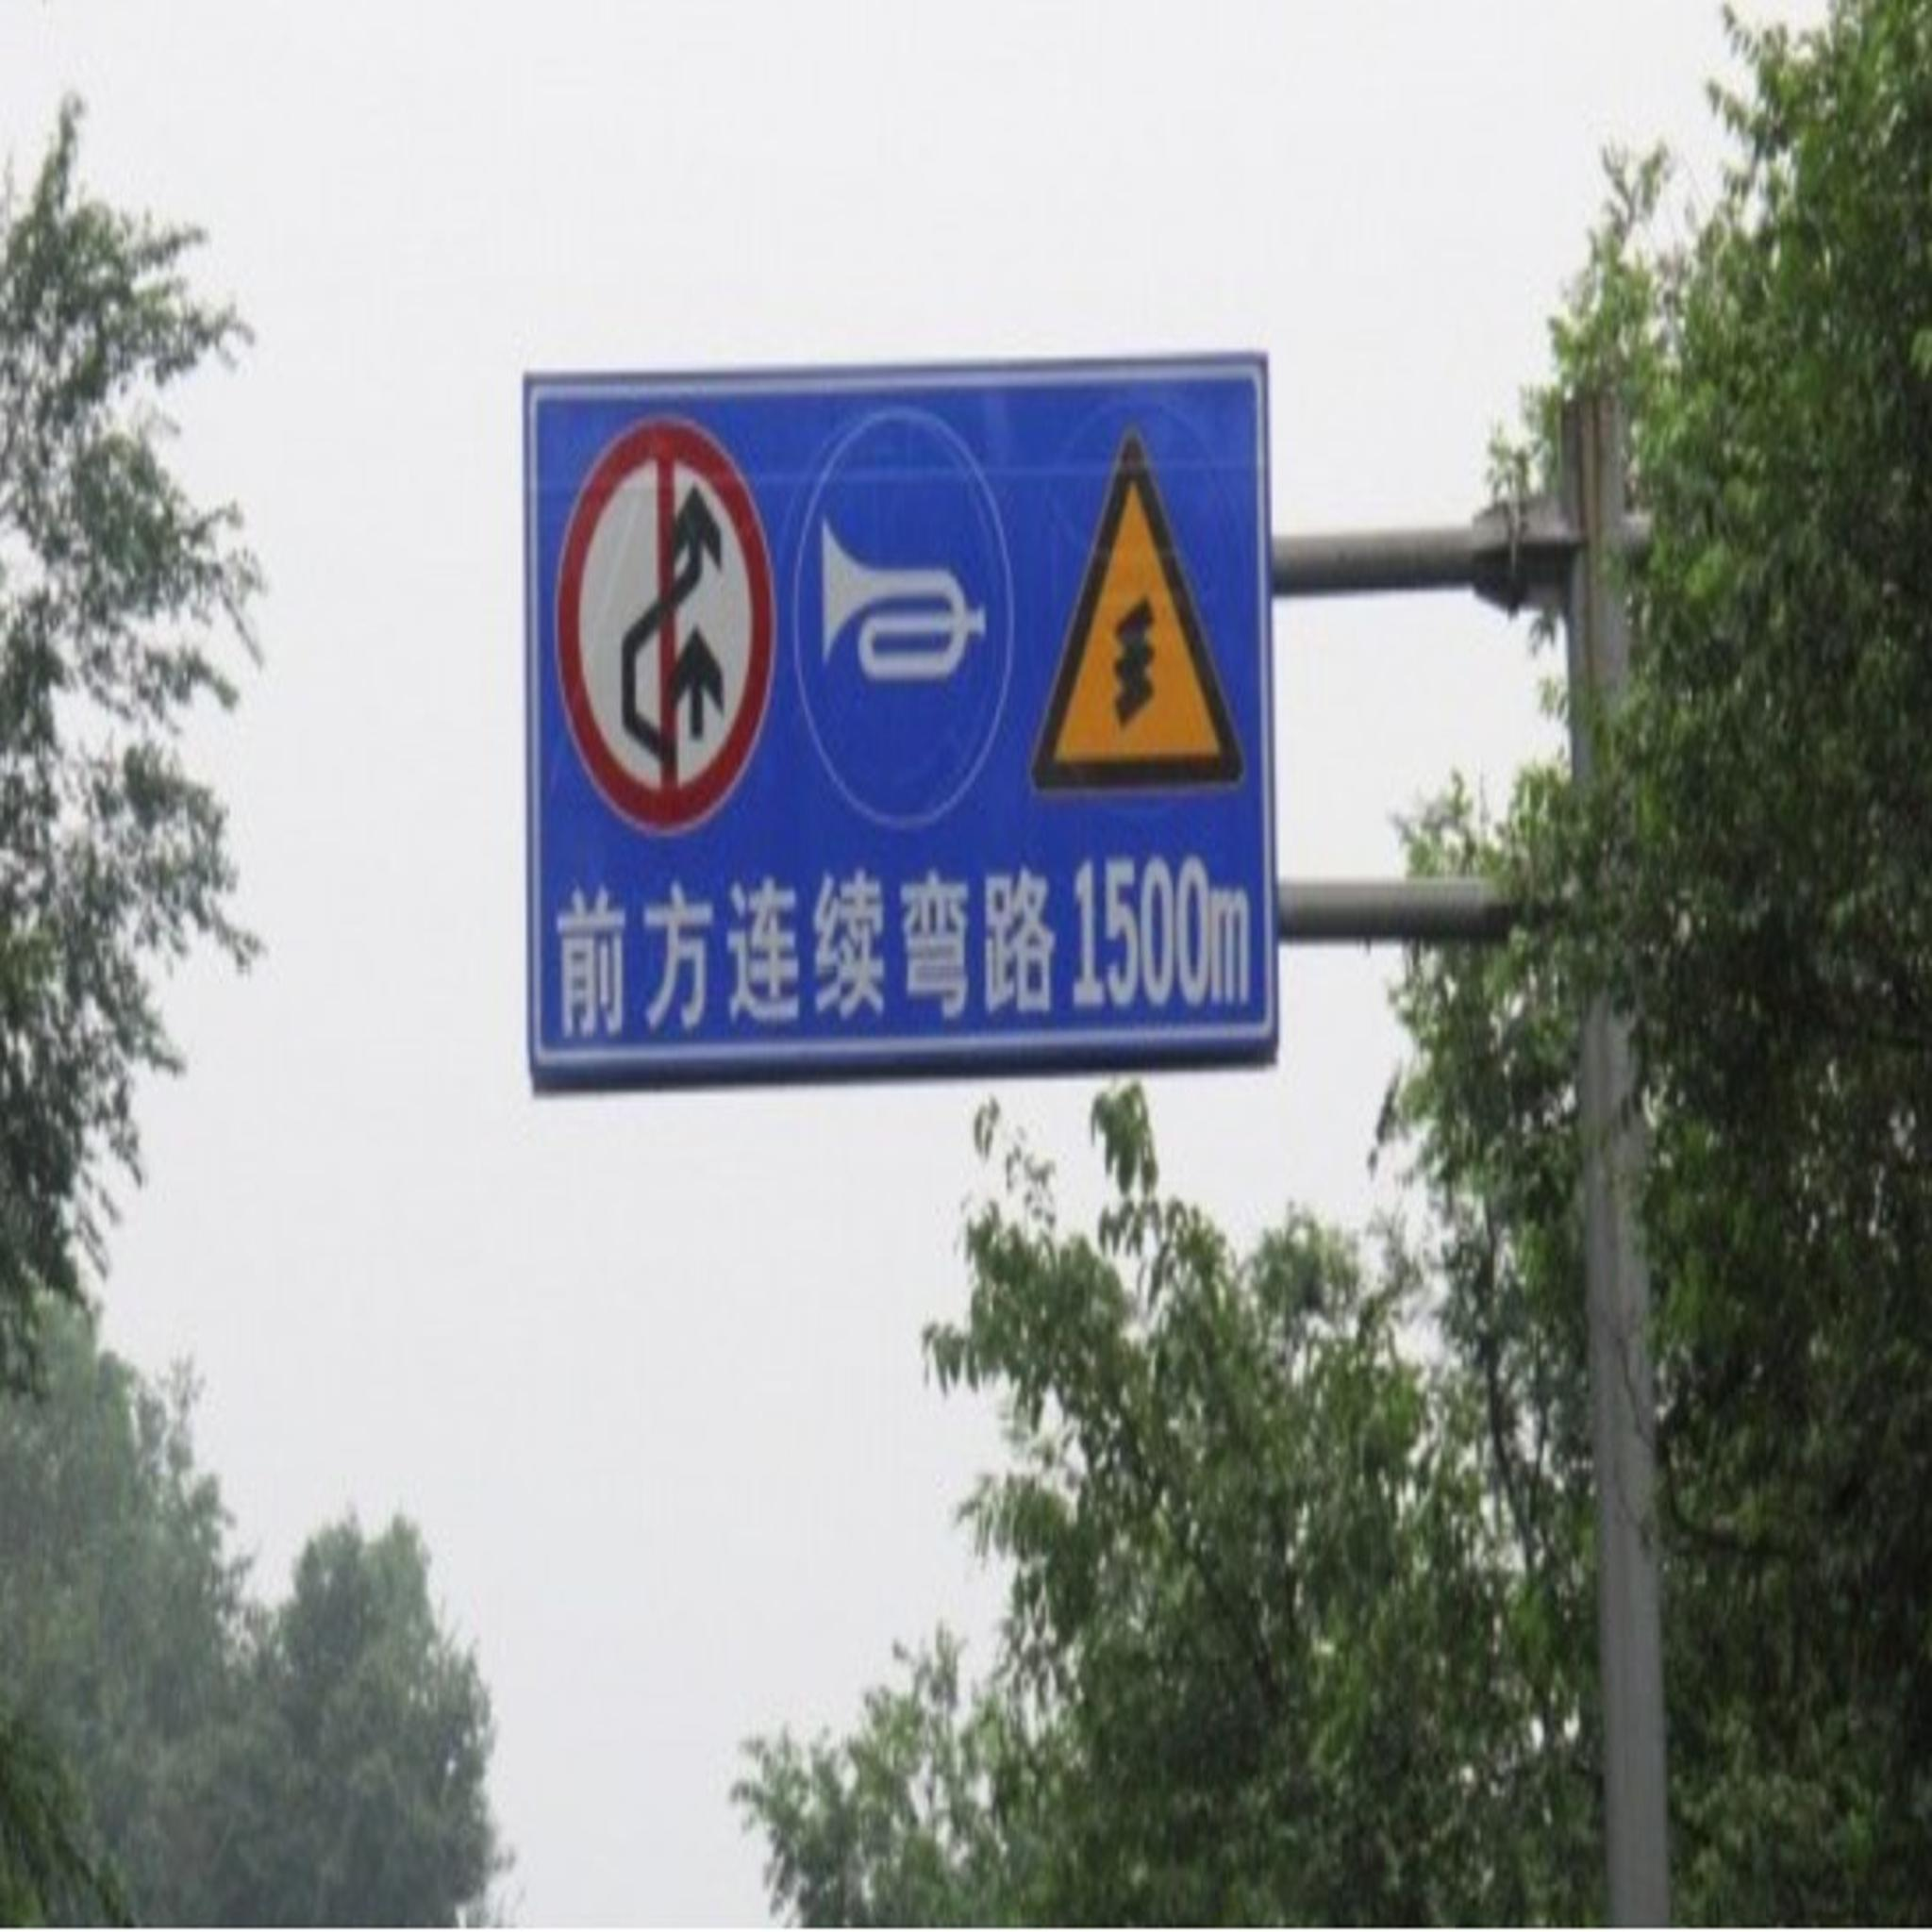i9: (789, 414, 1016, 828)
w24: (1033, 428, 1247, 789)
